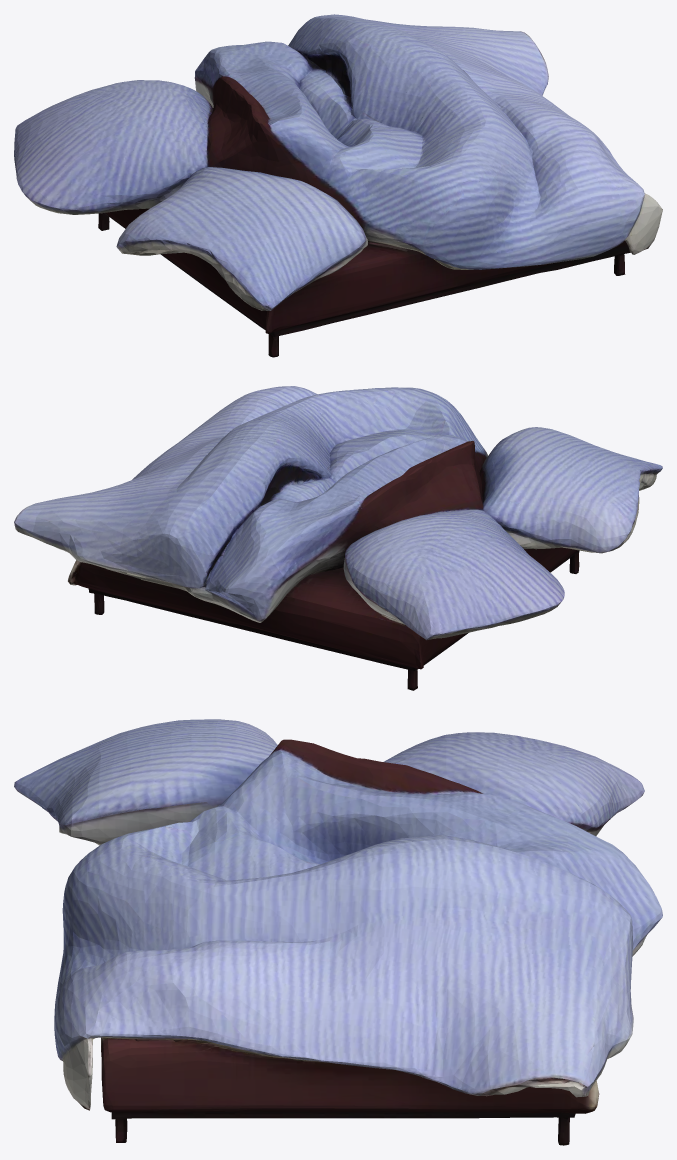
The model's file is ee209f7a-5739-4410-9bfa-5649ec0e3c81.glb.
3 renders of one model, top to bottom at view 1: azimuth 30°, elevation 25°; view 2: azimuth 150°, elevation 25°; view 3: azimuth 270°, elevation 25°, orthographic. The views are drawn at different scales.
Parts seen in each view (by area): view 1: world; view 2: world; view 3: world.
Part boxes in pixels (x1,y1,x2,y2): world: (14, 14, 662, 357); world: (14, 386, 662, 690); world: (14, 719, 662, 1145).
Size of the model in its own units: 0.8523 by 0.2744 by 0.7049.
1 material, 1 textured.
